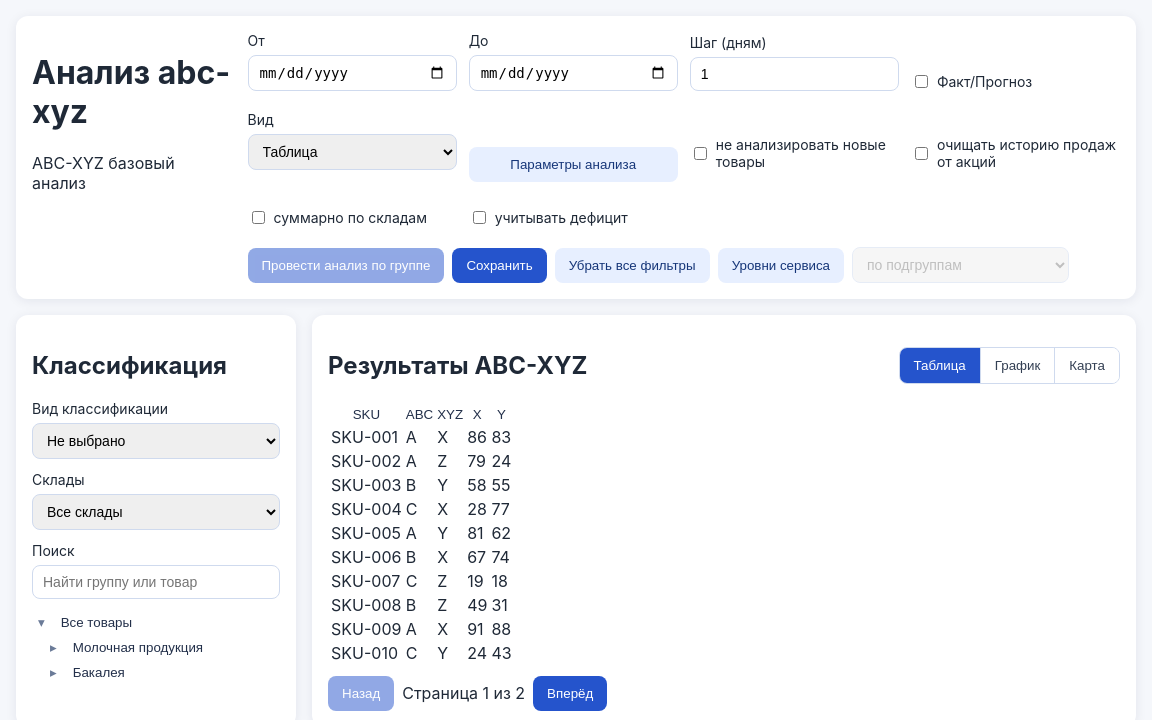
it: AnalysisPage smoke › blocks apply button when analysis parameters are invalid
Click the button "Параметры анализа" at coordinates (573, 164), box [469,147,678,182]
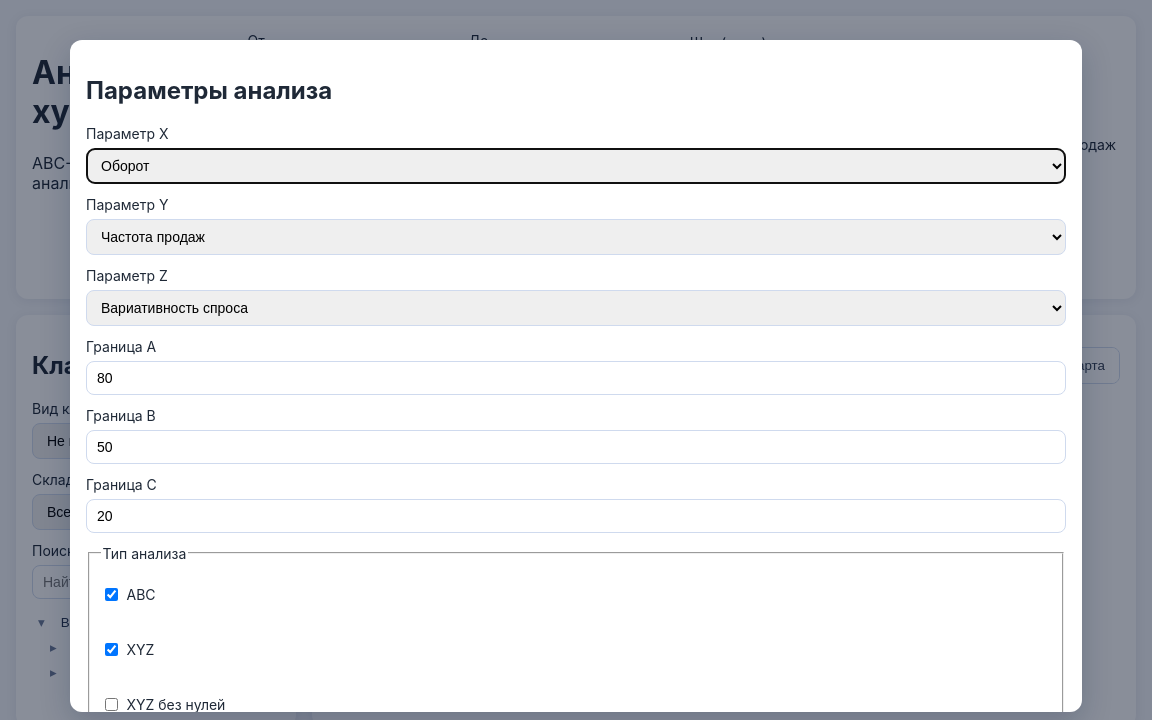
Replace the text in the number field labelled "Граница A" with "10" at coordinates (576, 378), box [86,361,1066,395]
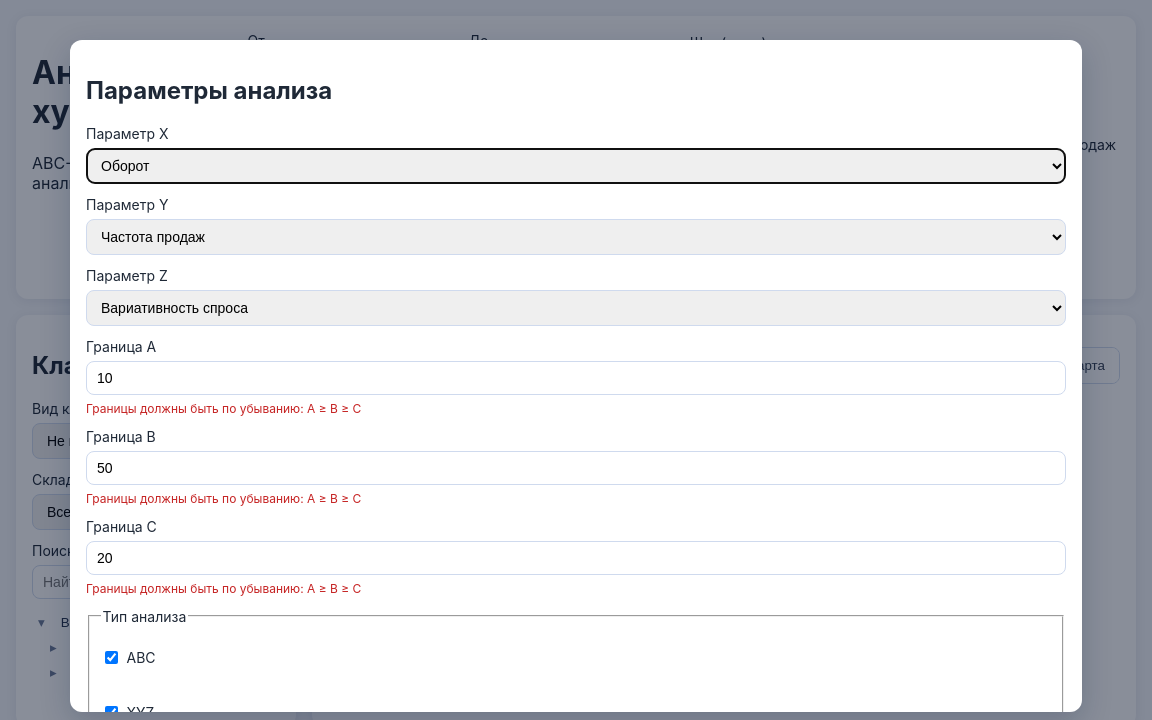
Replace the text in the number field labelled "Граница B Границы должны быть по убыванию: A ≥ B ≥ C" with "20" at coordinates (576, 468), box [86,451,1066,485]
(page scrolled)
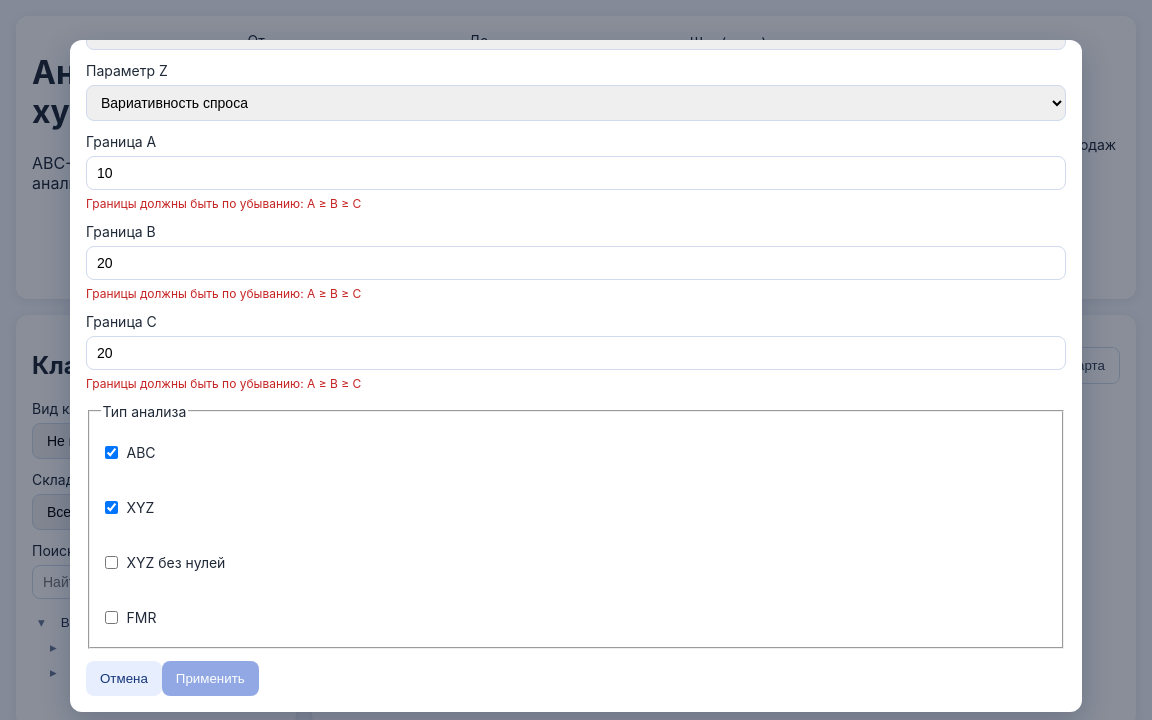
Expected: the text "Границы должны быть по убыванию: A ≥ B ≥ C" is shown 3 times, [86,196,361,211]; [86,286,361,301]; [86,376,361,391]
Expected: the button "Применить" is disabled, [162,662,259,696]
